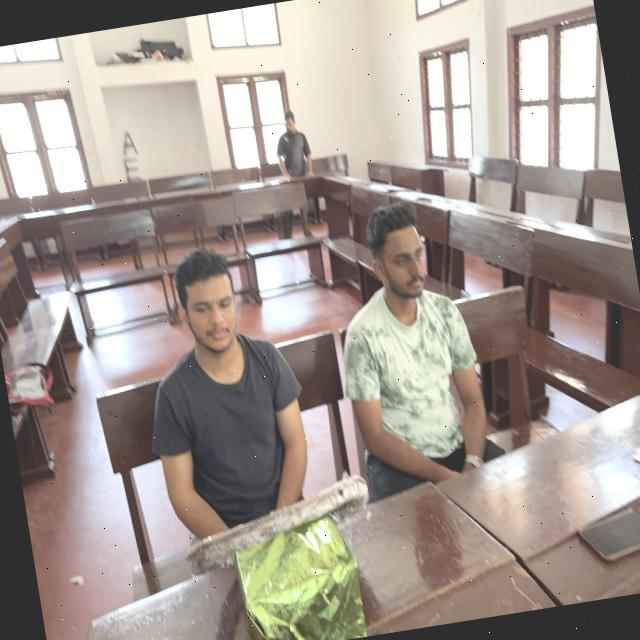Helmet: (142, 331, 332, 555), (329, 277, 500, 512)
